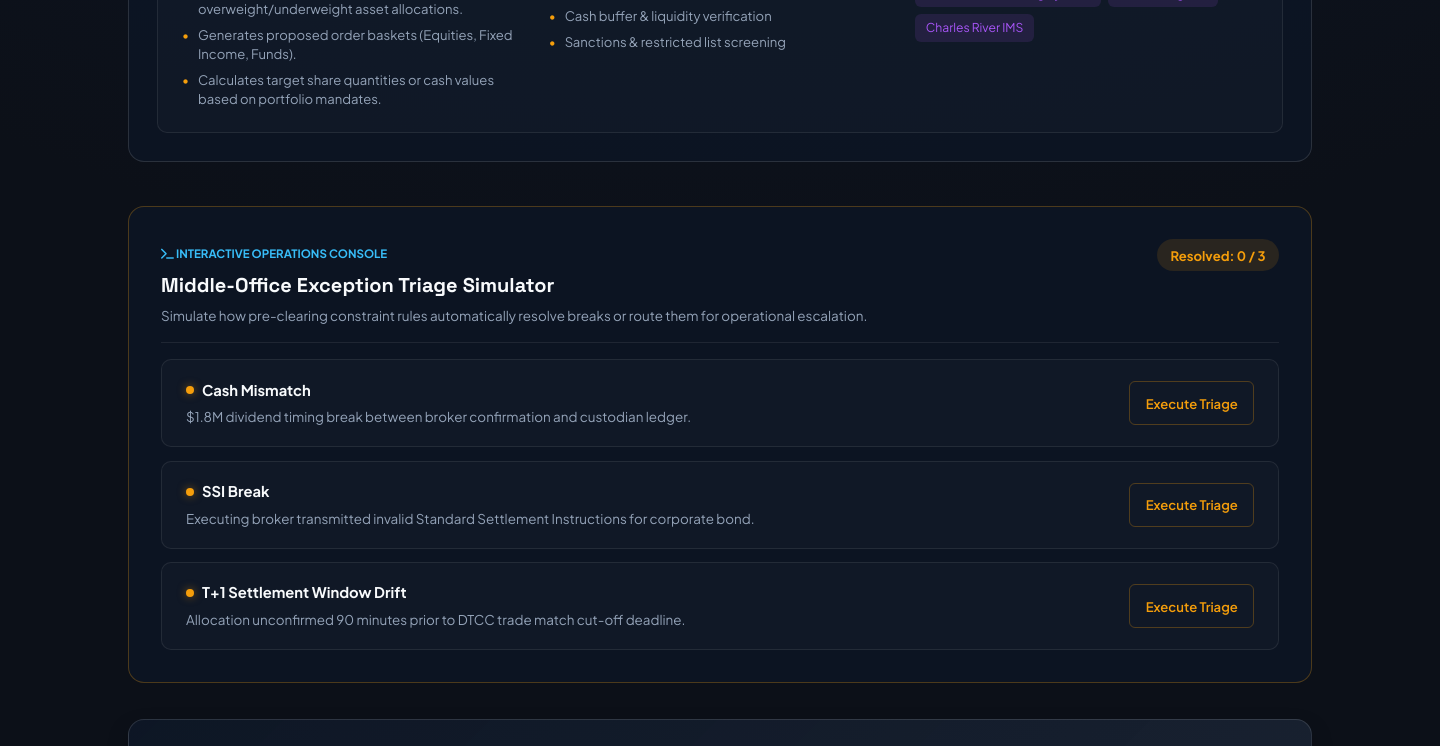
Test case: Techno-Functional Portfolio Comprehensive Regression Suite › CapitalMarketsCaseStudies Component › operates exception triage simulator and tracks resolution status
(page scrolled)
Expected: the heading "Middle-Office Exception Triage Simulator" is shown, [161, 272, 554, 298]
Step 1. Click the 1st button "Execute Triage" → (1192, 403), box [1130, 381, 1254, 425]
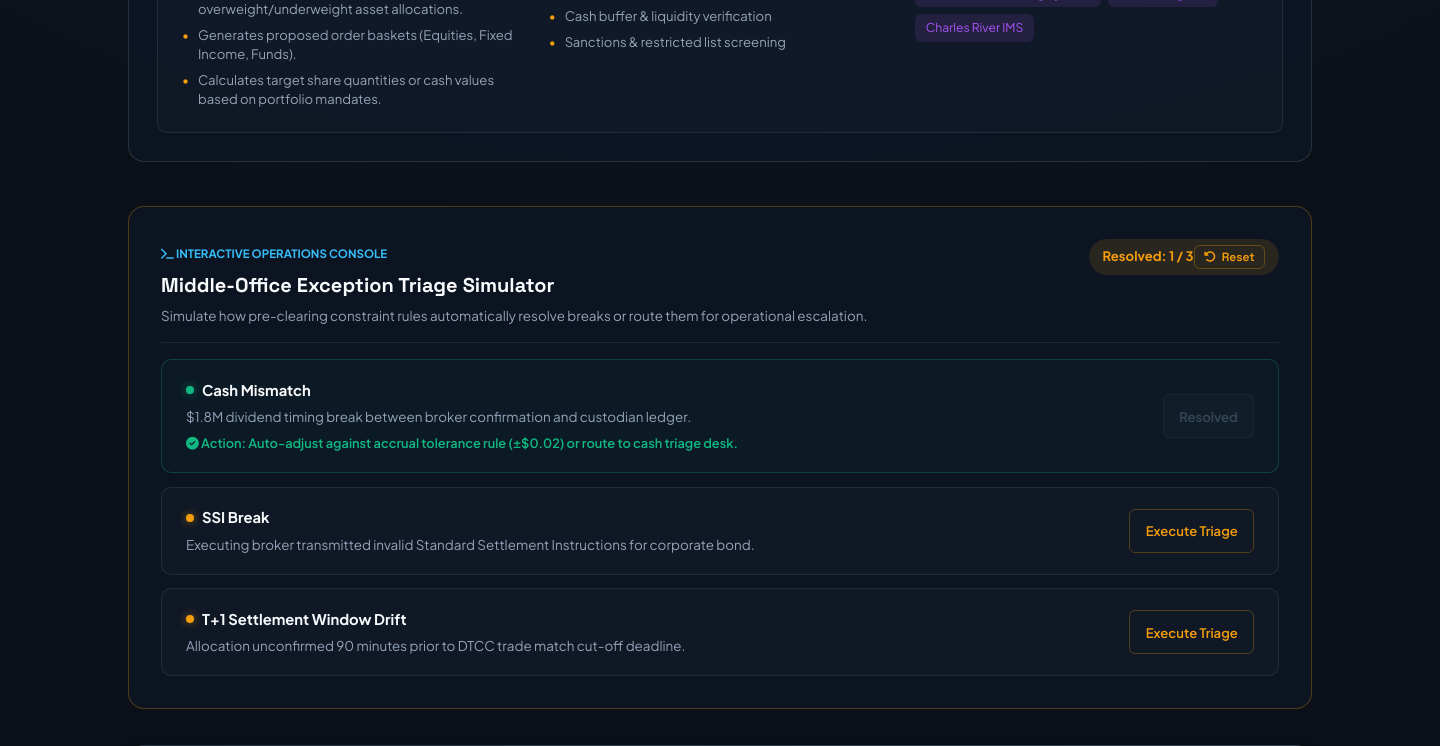
Now the text "Action:" is shown, box [199, 435, 248, 451]
Step 2. Click the 1st button "Execute Triage" → (1192, 531), box [1130, 509, 1254, 553]
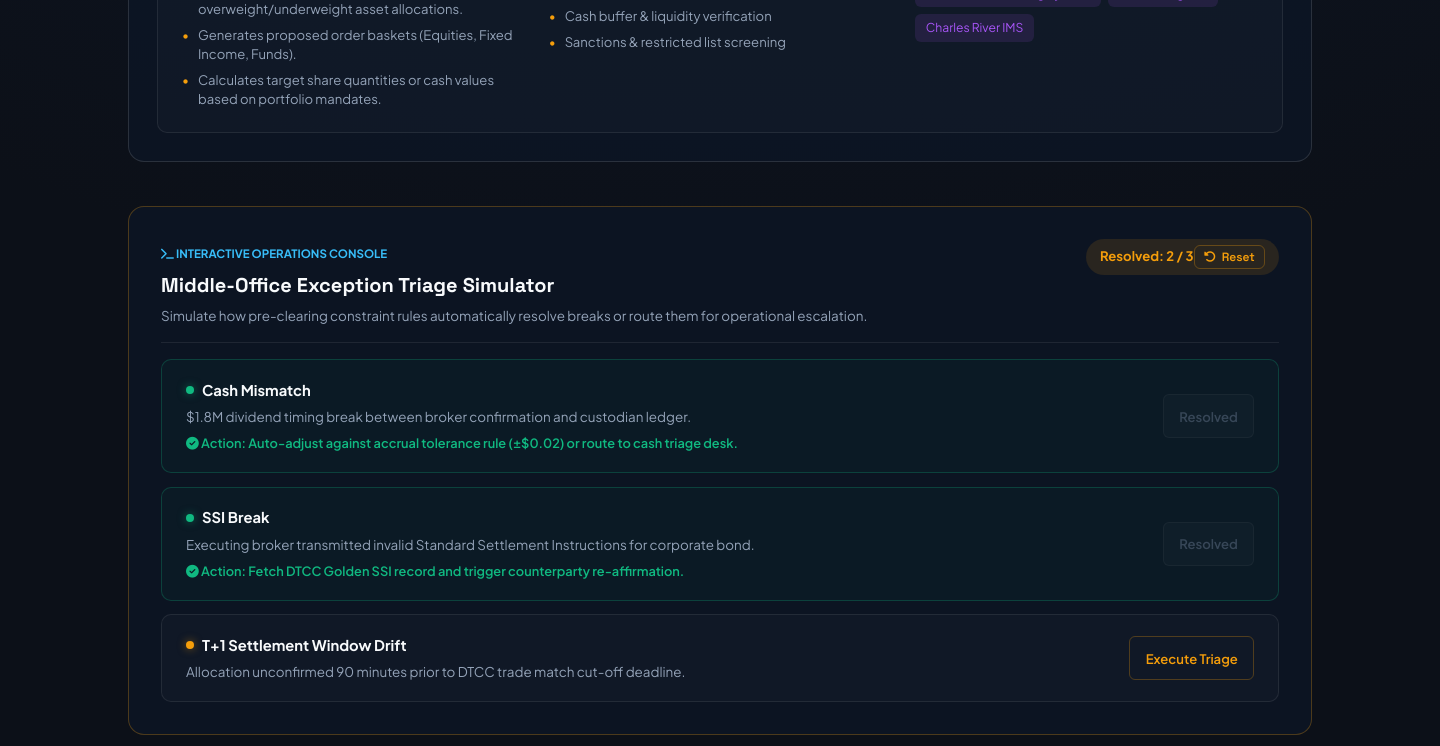
Step 3. Click the button "Execute Triage" → (1192, 658), box [1130, 636, 1254, 680]
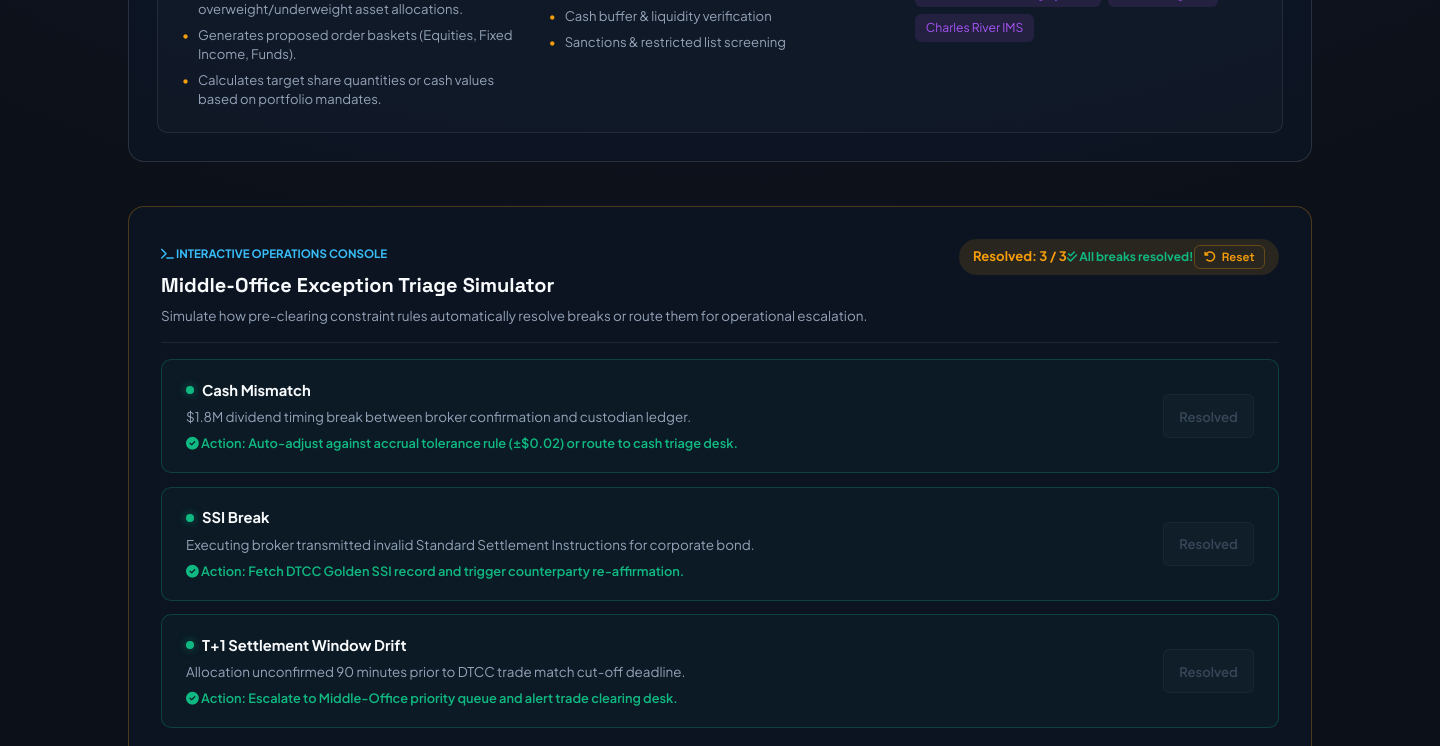
Now the button "Reset" is shown, box [1194, 245, 1265, 269]
Now the text "All breaks resolved!" is shown, box [1067, 249, 1194, 264]
